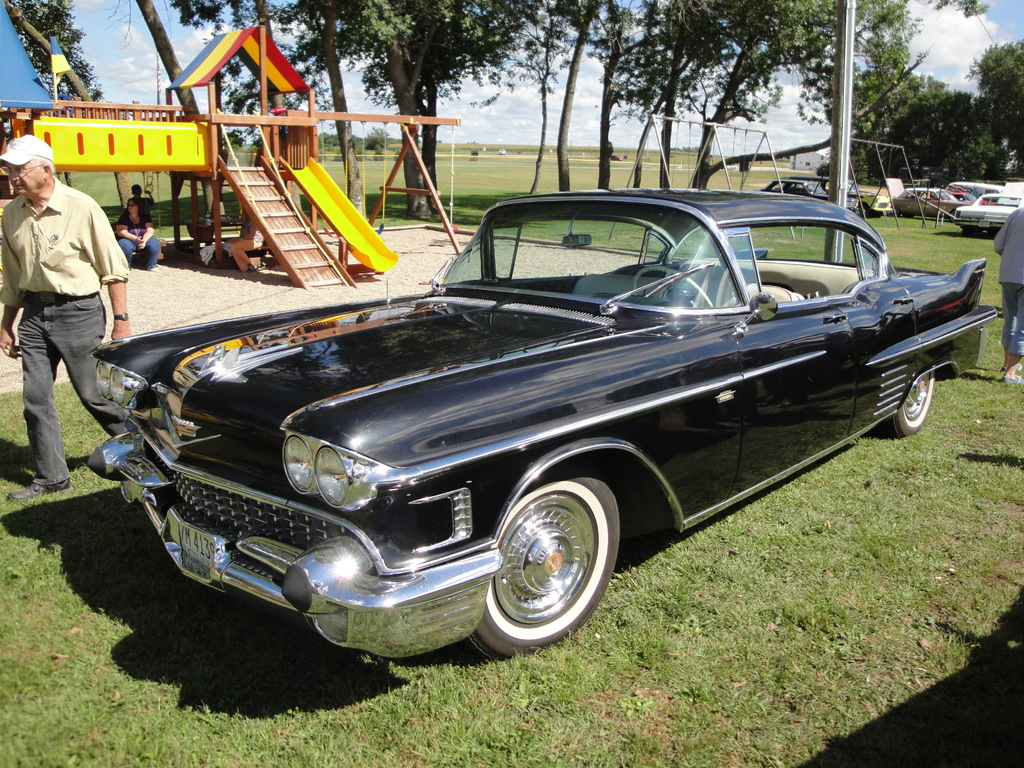cars: (79, 183, 997, 669), (953, 192, 1023, 238), (893, 189, 964, 212)
